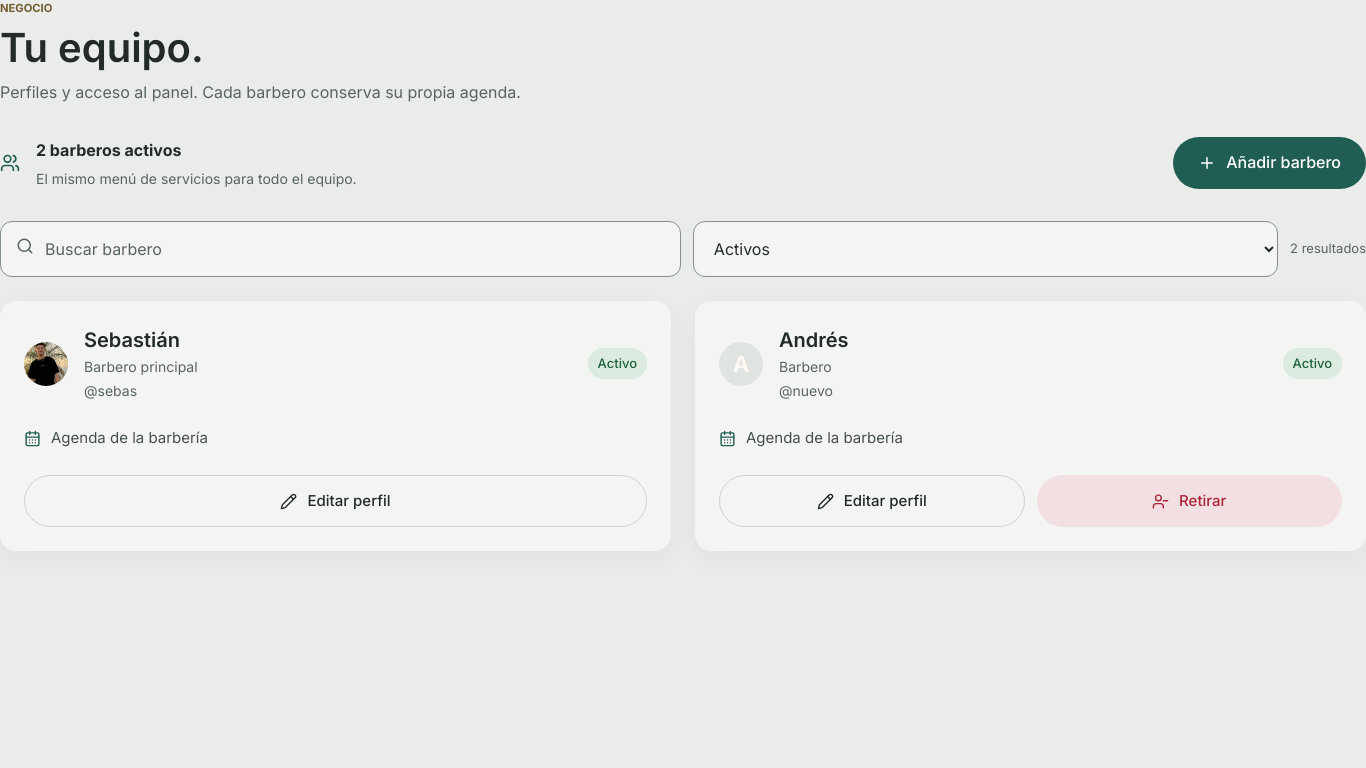
Scenario: Gestión del equipo › solicita confirmación y muestra conflictos sin ocultar el error
Click the button "Retirar".
click(1189, 501)  # box [1036,475,1342,527]
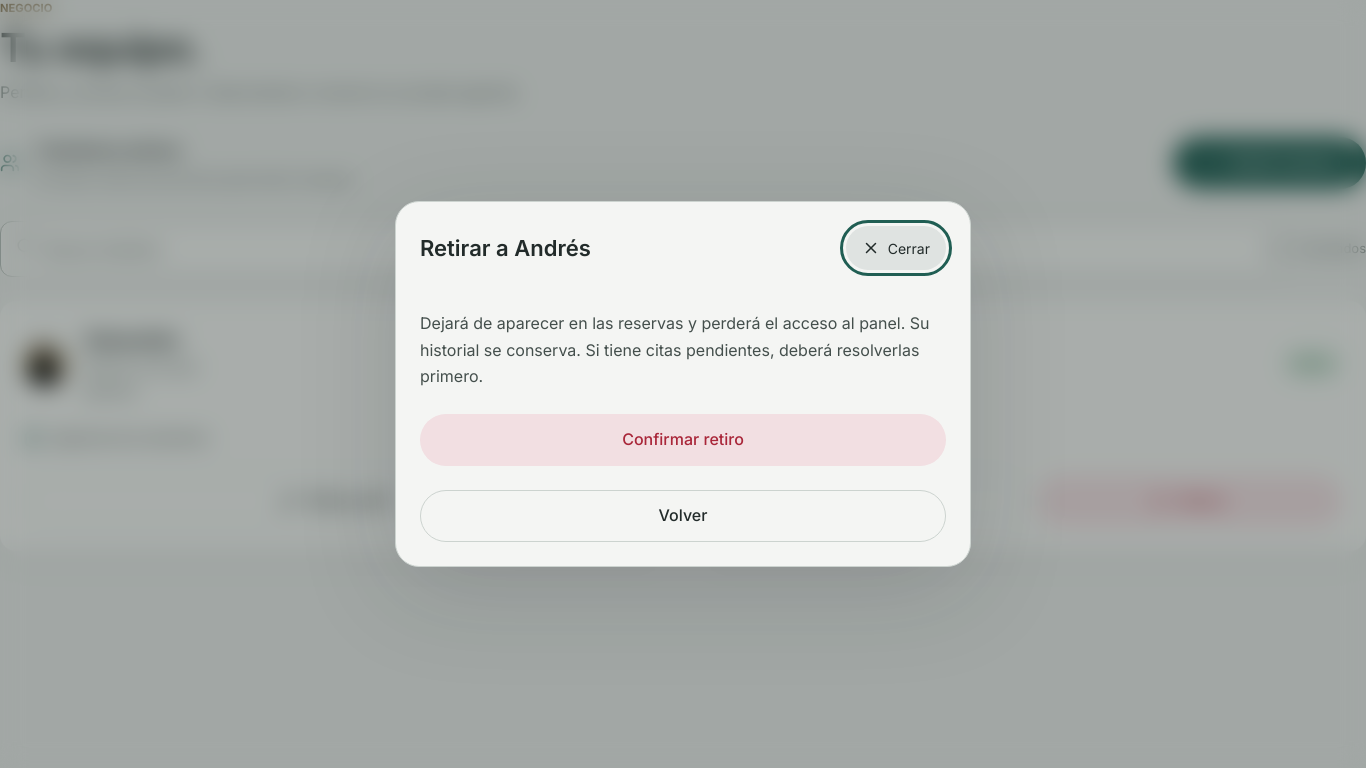
Click the button "Confirmar retiro".
click(683, 440)  # box [420,414,946,466]
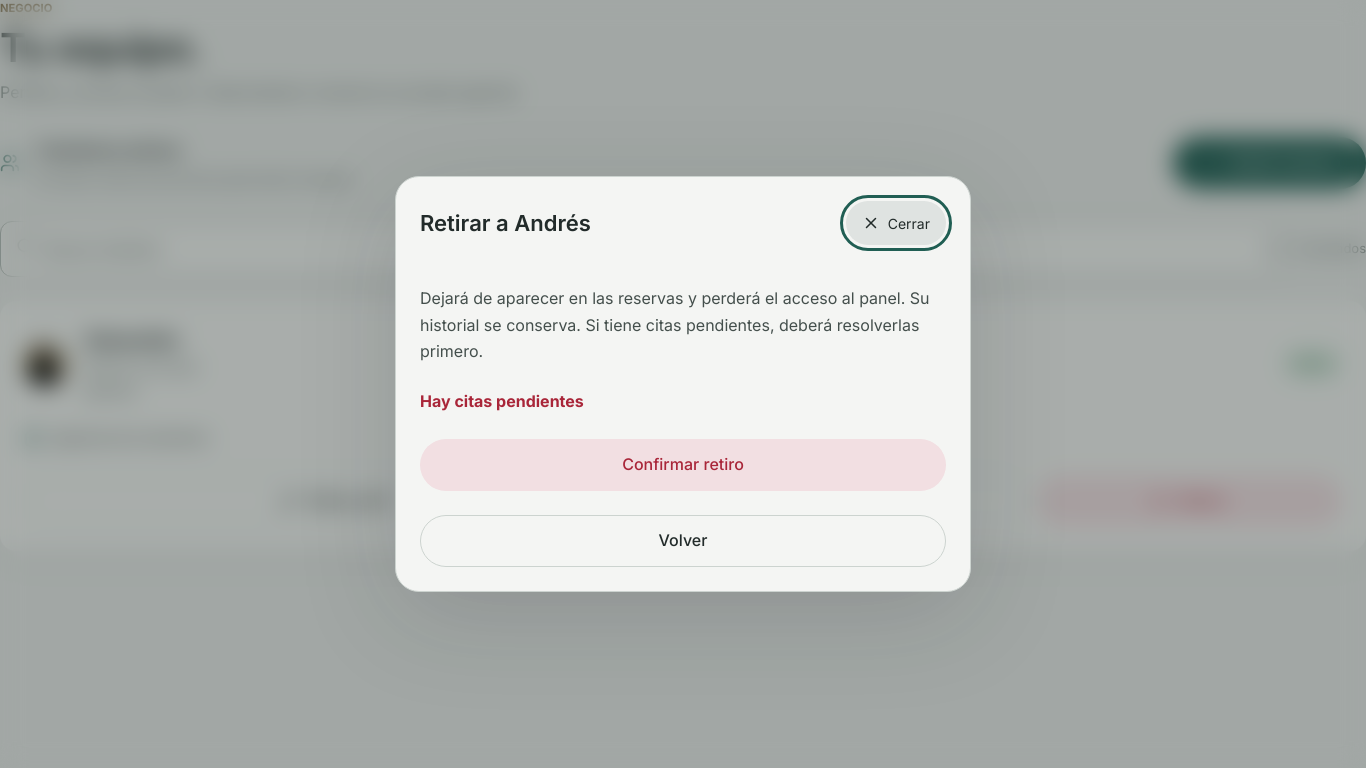
Check: the message reads "Hay citas pendientes", box [420,391,584,411]
